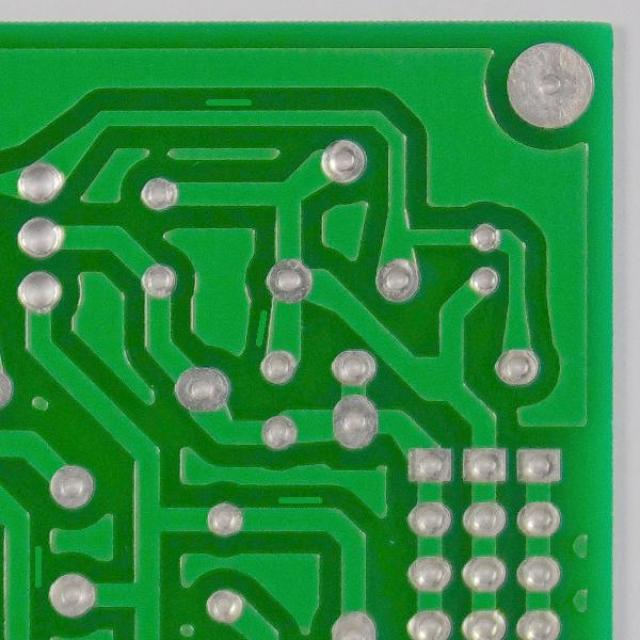Spurious_Cooper: (199, 93, 258, 111), (251, 302, 273, 350), (29, 541, 47, 592), (272, 492, 325, 509)
